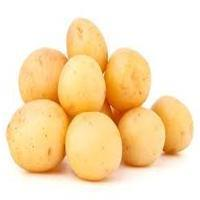biodegradable: (4, 98, 69, 172), (64, 111, 124, 182), (105, 45, 152, 110), (58, 54, 107, 116), (17, 47, 69, 105), (118, 106, 166, 167), (150, 94, 195, 155), (66, 16, 108, 72)
